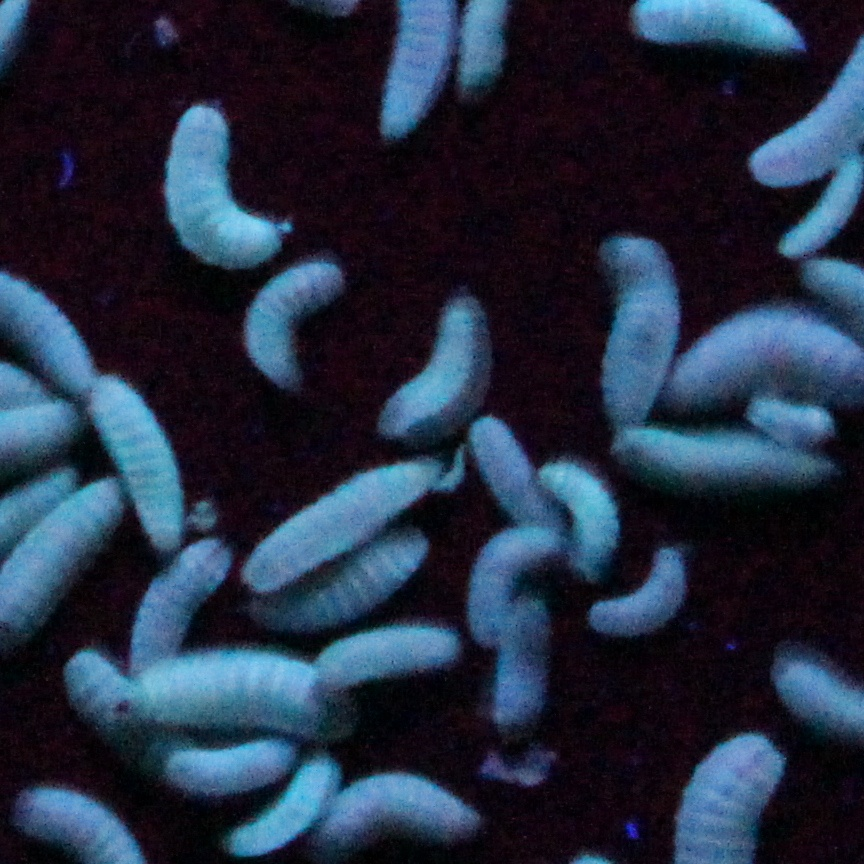larve: (217, 464, 446, 582), (87, 371, 203, 548), (167, 94, 280, 275), (119, 657, 335, 741), (598, 232, 680, 430), (239, 262, 357, 389), (305, 764, 501, 839), (380, 287, 478, 432), (219, 757, 339, 862), (585, 530, 694, 635), (298, 621, 471, 687), (460, 419, 555, 535), (255, 548, 426, 612), (132, 532, 223, 650), (467, 523, 553, 644), (482, 598, 562, 723), (539, 450, 617, 569), (778, 157, 862, 262), (62, 644, 153, 730), (157, 744, 307, 794)
